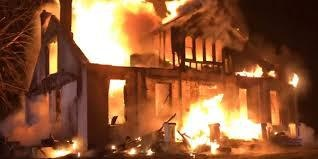fire: (175, 93, 261, 151), (68, 1, 142, 66), (45, 137, 82, 157), (234, 62, 270, 77)
